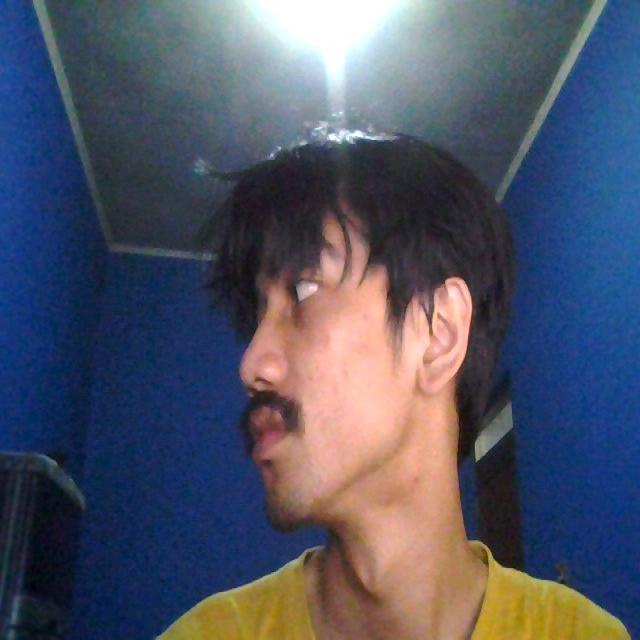Melihat kekanan: (175, 182, 540, 493)
